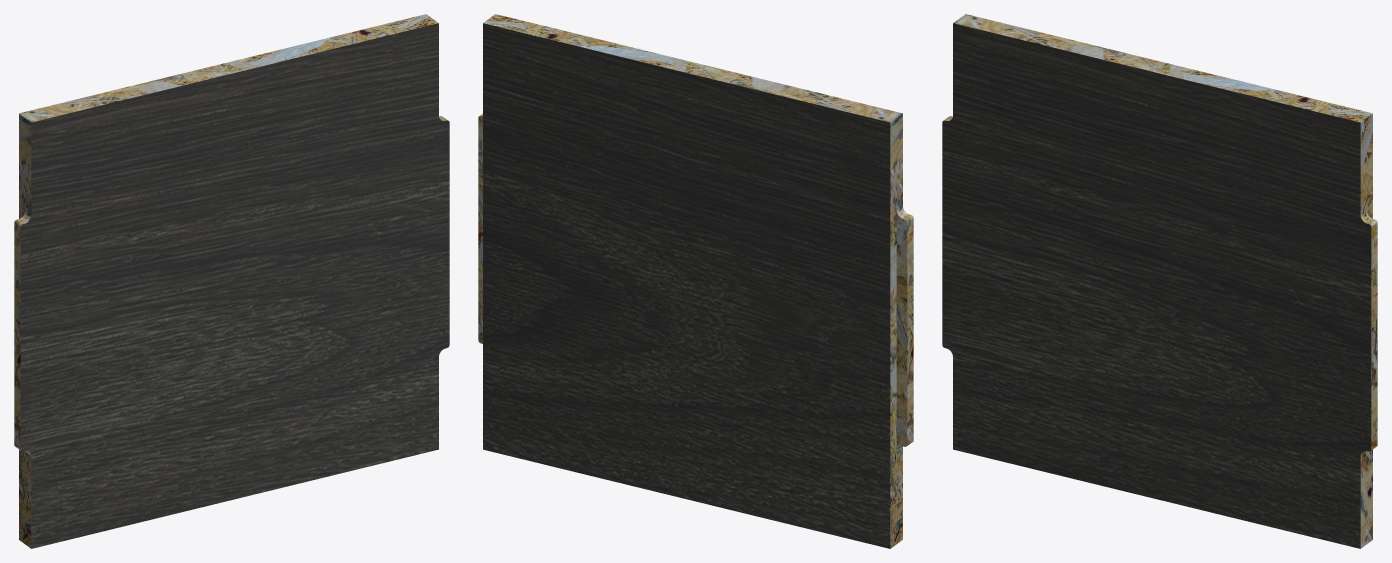
File: floor_base.obj
3 views of the same model, side by side, from view 1: azimuth 30°, elevation 25°; view 2: azimuth 150°, elevation 25°; view 3: azimuth 330°, elevation 25° (orthographic).
Parts seen in each view (by area): view 1: Product; view 2: Product; view 3: Product.
Part boxes in pixels (x1,y1,x2,y2): Product: [14, 14, 449, 548]; Product: [478, 14, 913, 548]; Product: [942, 14, 1377, 548].
Bounding box in the file's own units: 316 × 300 × 16.
